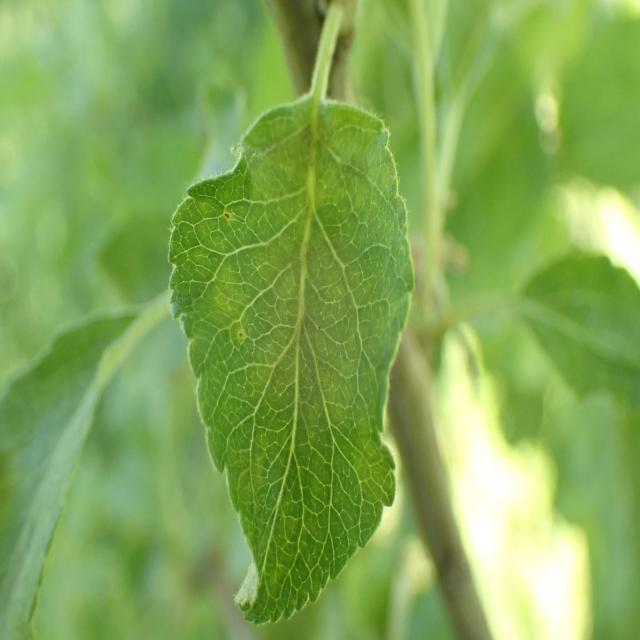scab: (260, 99, 374, 546)
